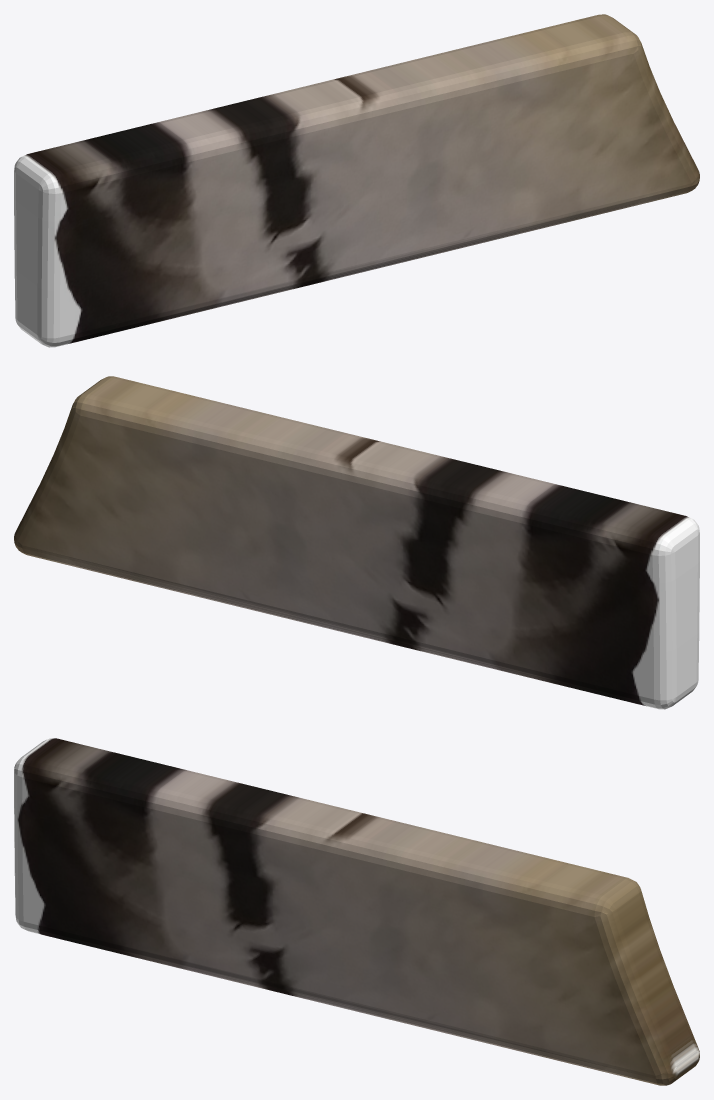
The model's file is left_upper_wing_texture.dae.
The picture shows the model from 3 angles, top to bottom: view 1: azimuth 30°, elevation 25°; view 2: azimuth 150°, elevation 25°; view 3: azimuth 330°, elevation 25°; orthographic projection.
Visible parts, largest first — view 1: SketchUp; view 2: SketchUp; view 3: SketchUp.
Boxes of the visible parts, x1,y1,x2,y2 form: SketchUp: [14, 14, 699, 347]; SketchUp: [14, 376, 699, 709]; SketchUp: [14, 738, 699, 1085].
Size of the model in its own units: 5.44 by 0.5586 by 1.38.
1 material, 1 textured.
